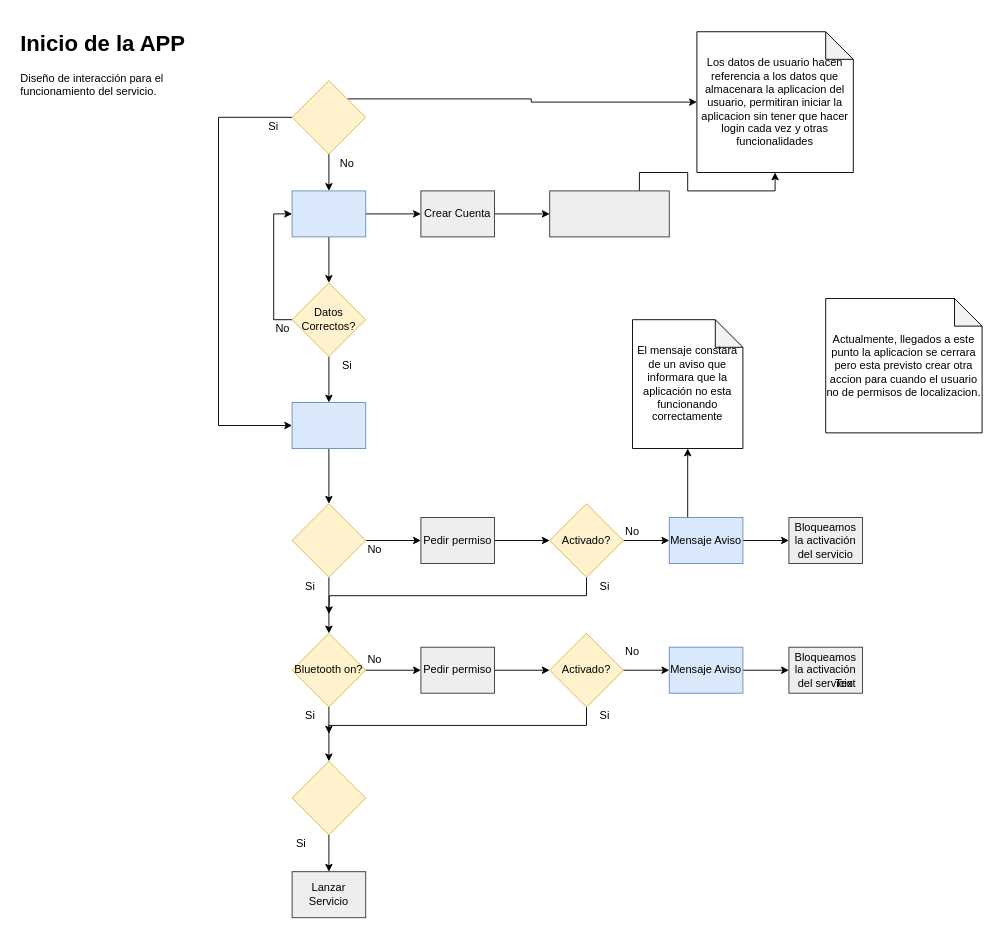
Some shapes in this 998 by 934 pixel diagram are drawn without their labels. Here are the shapes that lost their labels. From the top down, the centre of each, then its label:
the point at 328,117: Datos Usuario?
the point at 328,213: Login
the point at 609,213: Crear datos usuario SharedPreferences
the point at 328,425: MainActivity
the point at 328,540: GPS on?
the point at 328,797: Permiso para activar servicio?
